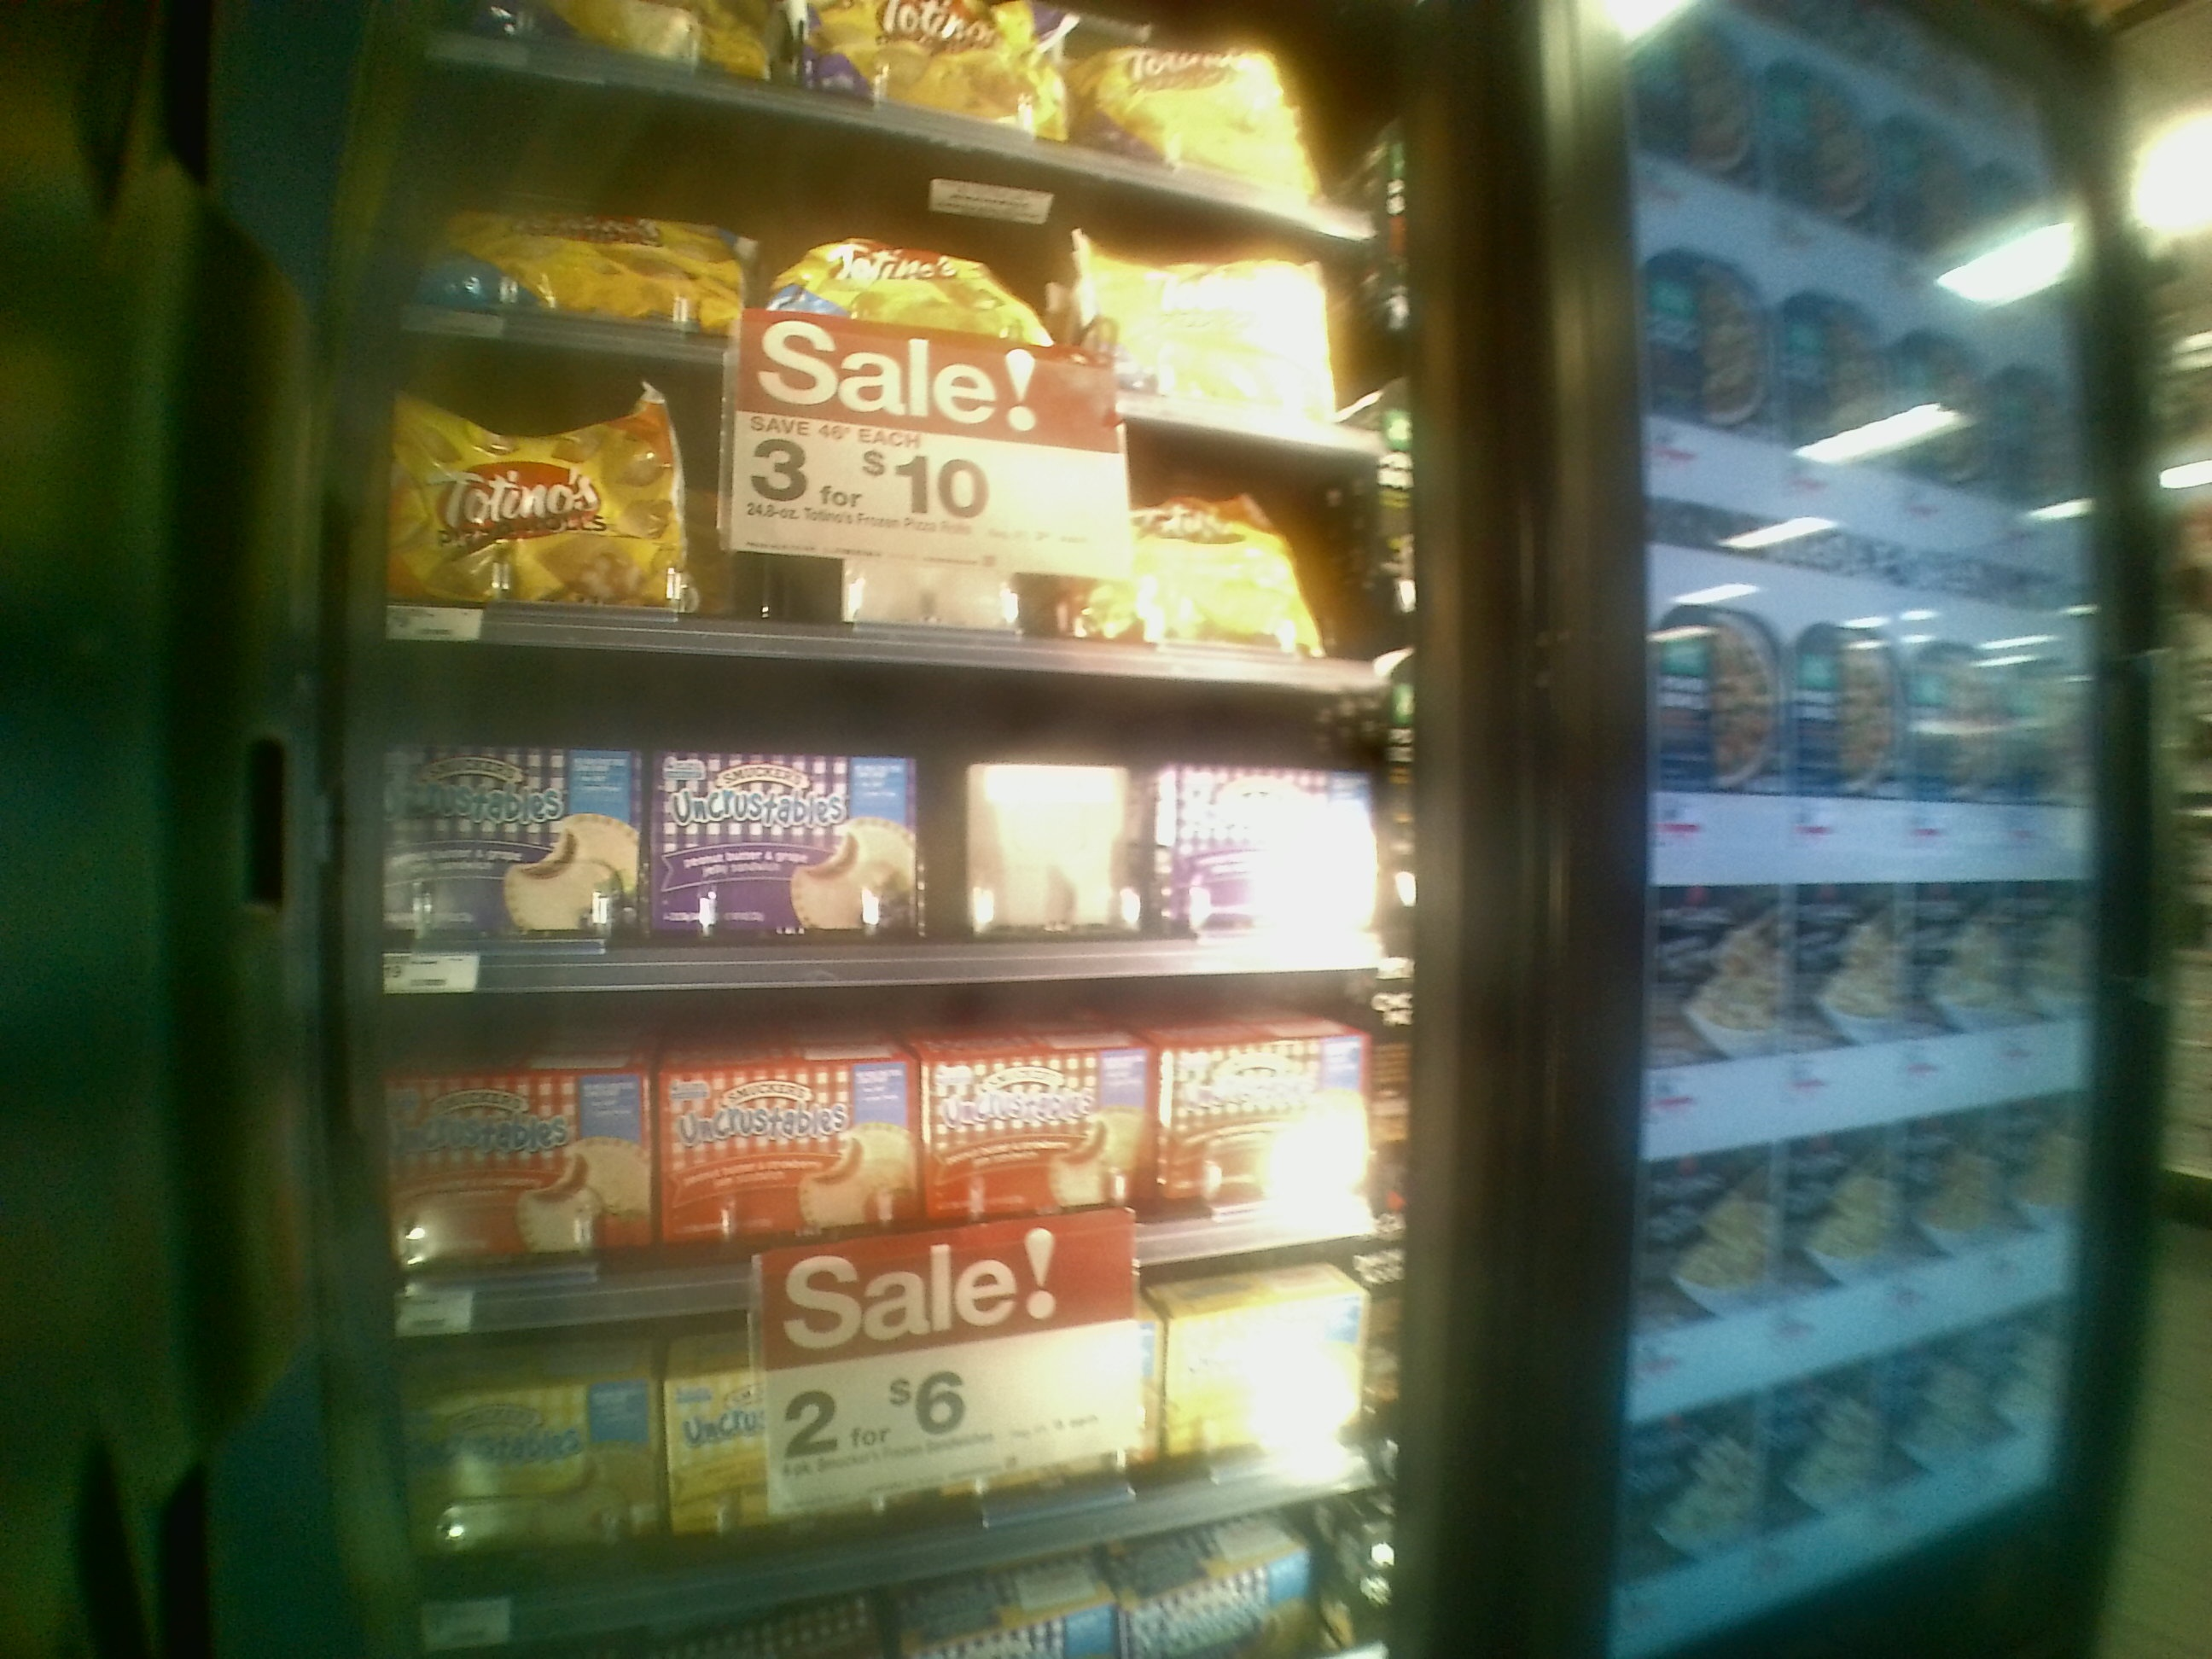shelf: (387, 333, 1383, 678), (366, 636, 1369, 964), (364, 964, 1371, 1229), (374, 1286, 1385, 1532)
